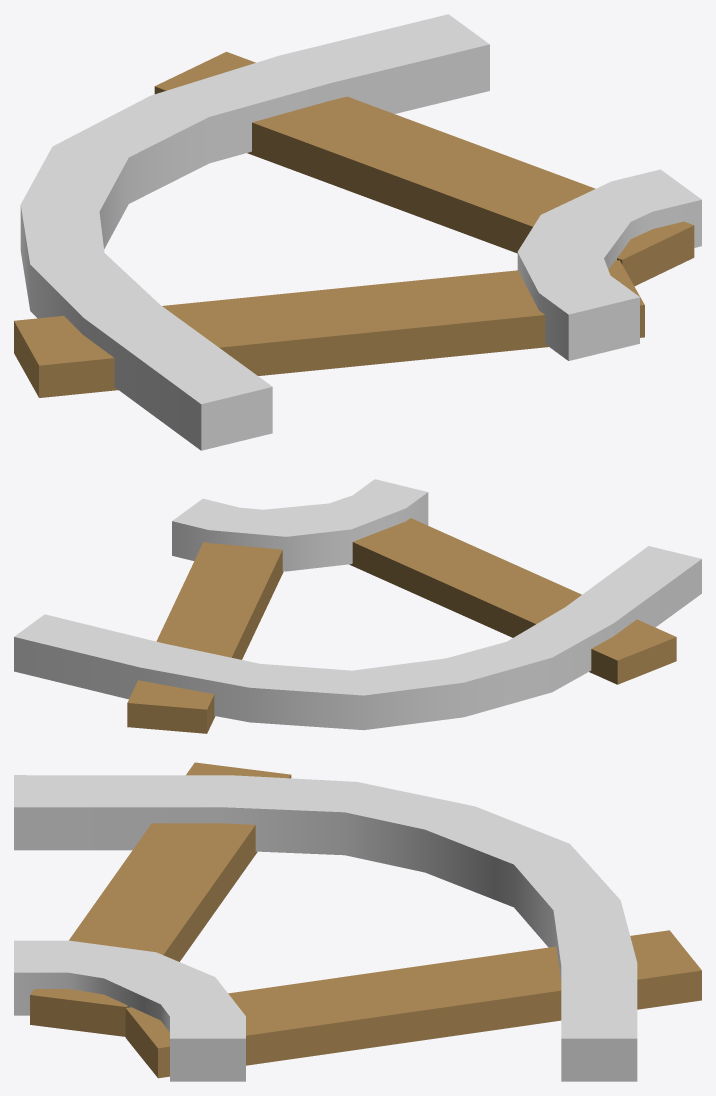
Rendered from Rail_Corner.fbx.
The picture shows the model from 3 angles, top to bottom: view 1: azimuth 30°, elevation 25°; view 2: azimuth 150°, elevation 25°; view 3: azimuth 270°, elevation 25°; orthographic projection. The views are drawn at different scales.
Visible parts, largest first — view 1: Rail_Corner; view 2: Rail_Corner; view 3: Rail_Corner.
Part boxes in pixels (x1,y1,x2,y2): Rail_Corner: [14, 14, 701, 450]; Rail_Corner: [14, 479, 701, 733]; Rail_Corner: [14, 762, 701, 1081].
Size of the model in its own units: 1.78 by 0.1305 by 1.77.
2 materials, 1 textured.
